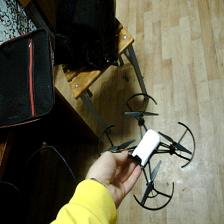drone: (96, 95, 198, 211)
